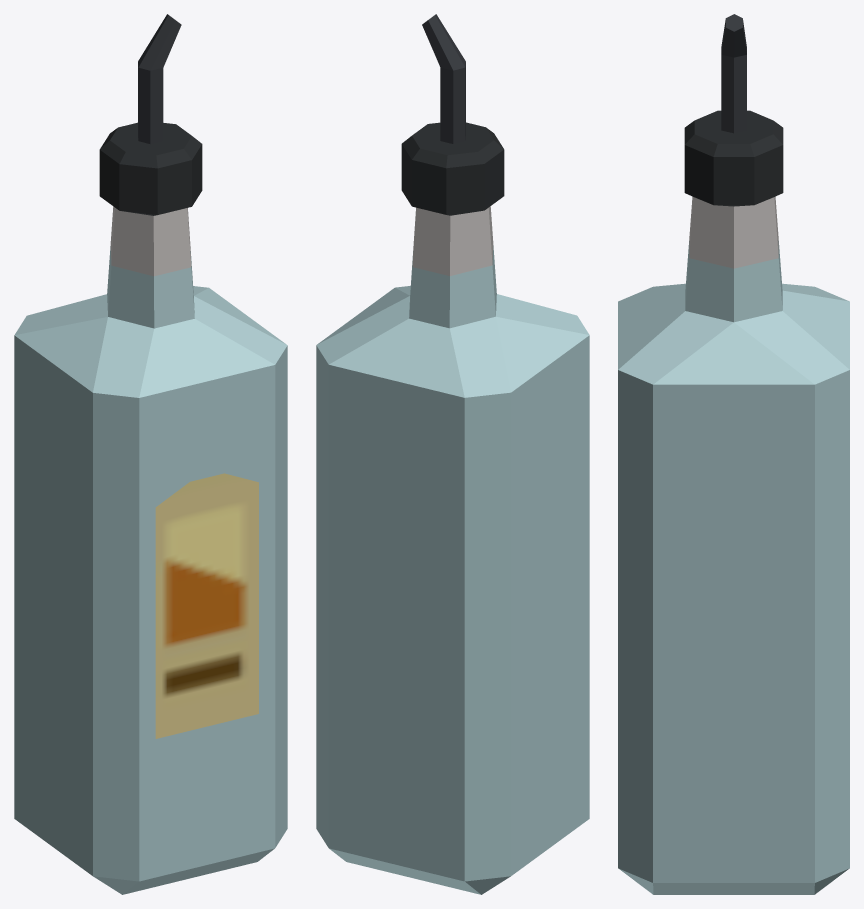
File: SM_Prop_Bottle_Large_07_GLASS.obj
The picture shows the model from 3 angles, left to right: view 1: azimuth 30°, elevation 25°; view 2: azimuth 150°, elevation 25°; view 3: azimuth 270°, elevation 25°; orthographic projection. The views are drawn at different scales.
Parts seen in each view (by area): view 1: SM_Prop_Bottle_Large_07_GLASS_0, SM_Prop_Bottle_Large_07_GLASS_1; view 2: SM_Prop_Bottle_Large_07_GLASS_0, SM_Prop_Bottle_Large_07_GLASS_1; view 3: SM_Prop_Bottle_Large_07_GLASS_0, SM_Prop_Bottle_Large_07_GLASS_1.
Part boxes in pixels (x1,y1,x2,y2): SM_Prop_Bottle_Large_07_GLASS_0: (14, 246, 287, 894); SM_Prop_Bottle_Large_07_GLASS_1: (99, 14, 258, 738); SM_Prop_Bottle_Large_07_GLASS_0: (316, 245, 589, 894); SM_Prop_Bottle_Large_07_GLASS_1: (401, 14, 504, 275); SM_Prop_Bottle_Large_07_GLASS_0: (618, 241, 849, 894); SM_Prop_Bottle_Large_07_GLASS_1: (684, 14, 783, 268).
Size of the model in its own units: 0.1264 by 0.515 by 0.1264.
2 materials, 1 textured.
